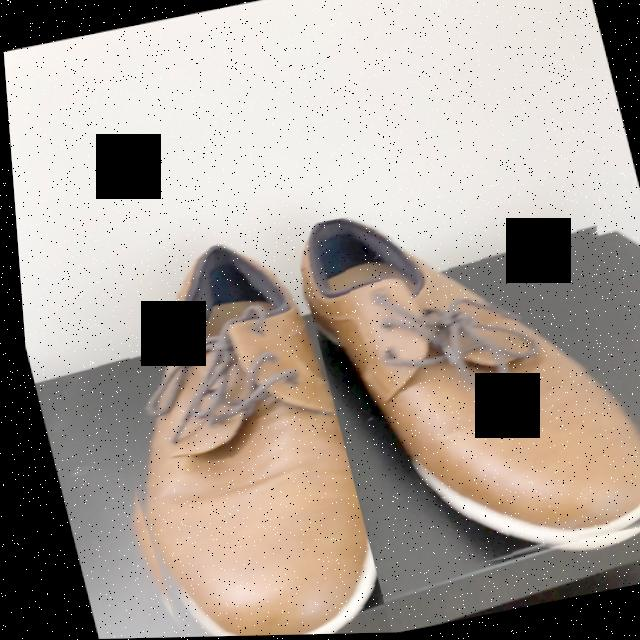shoe: (293, 221, 640, 548), (134, 248, 367, 637)
